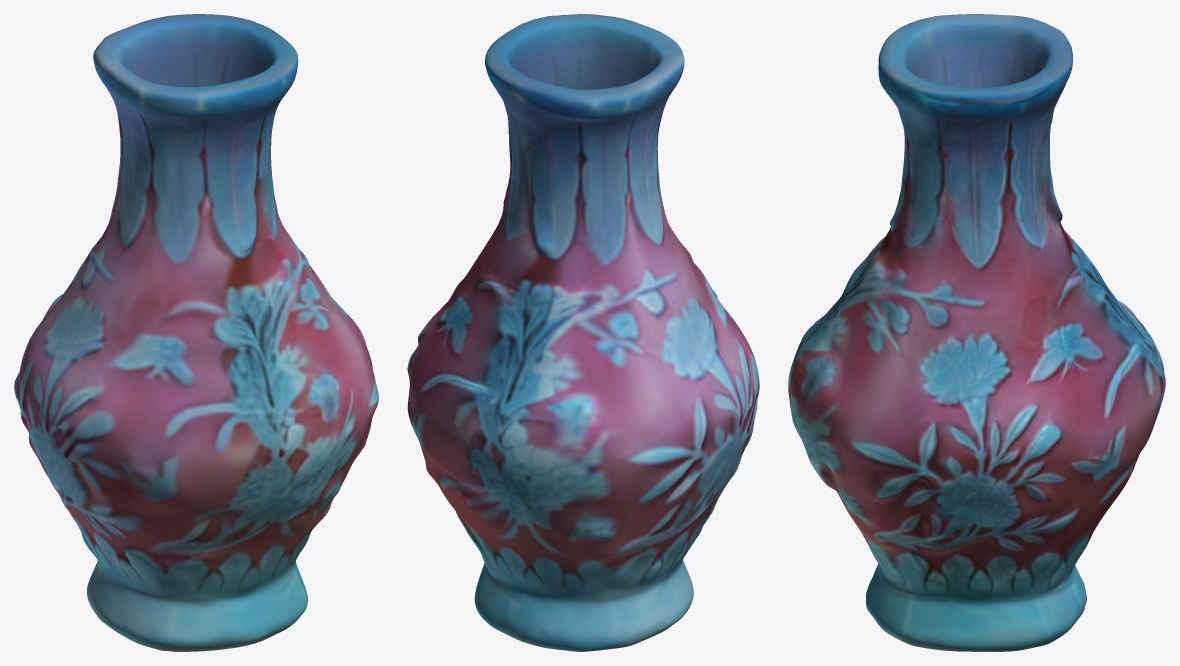
File: 乾隆款豇豆红套蓝玻璃花蝶纹瓶.glb
3 renders of one model, left to right at view 1: azimuth 30°, elevation 25°; view 2: azimuth 150°, elevation 25°; view 3: azimuth 270°, elevation 25°, orthographic.
Parts seen in each view (by area): view 1: tripo_node_3b282d2c-251a-4ace-aff3-bbf0ffeee03a; view 2: tripo_node_3b282d2c-251a-4ace-aff3-bbf0ffeee03a; view 3: tripo_node_3b282d2c-251a-4ace-aff3-bbf0ffeee03a.
Boxes of the visible parts, box(x1,y1,x2,y2) form: tripo_node_3b282d2c-251a-4ace-aff3-bbf0ffeee03a: box(14, 14, 378, 651); tripo_node_3b282d2c-251a-4ace-aff3-bbf0ffeee03a: box(407, 14, 759, 651); tripo_node_3b282d2c-251a-4ace-aff3-bbf0ffeee03a: box(788, 14, 1165, 651).
Size of the model in its own units: 0.4873 by 0.8458 by 0.5138.
Materials: 1 (1 with a texture image).
